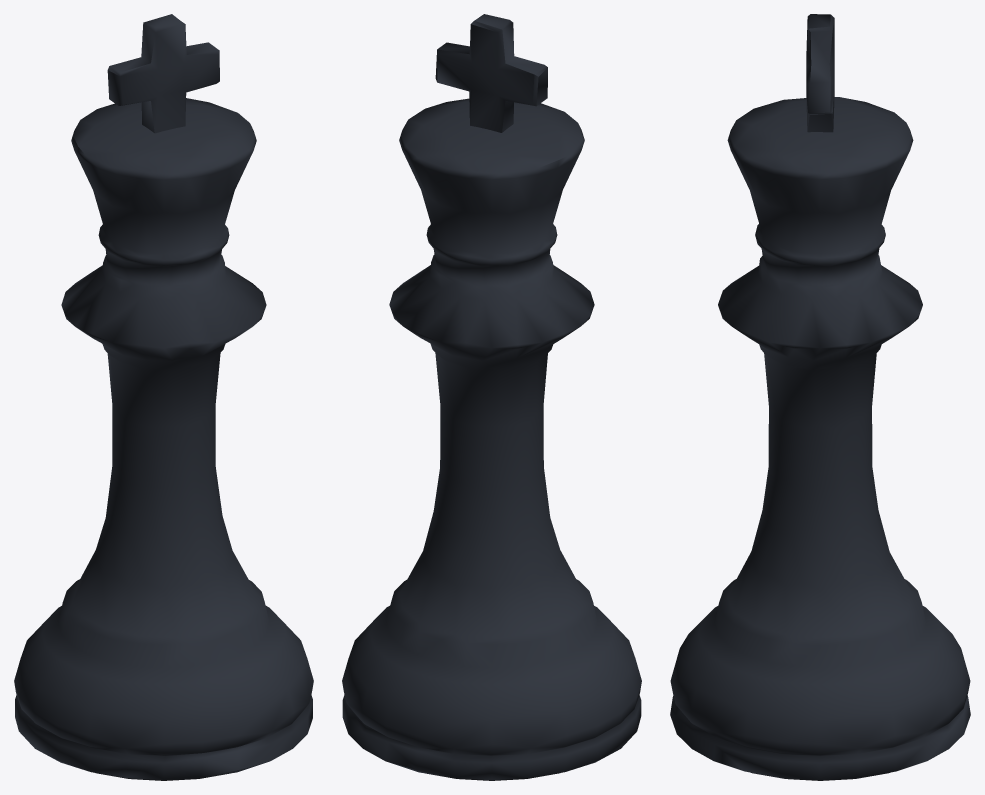
Rendered from xadrez_rei_preto_pacote.glb.
3 renders of one model, left to right at view 1: azimuth 30°, elevation 25°; view 2: azimuth 150°, elevation 25°; view 3: azimuth 270°, elevation 25°, orthographic.
Parts seen in each view (by area): view 1: xadrez_rei_preto_pacote; view 2: xadrez_rei_preto_pacote; view 3: xadrez_rei_preto_pacote.
Boxes of the visible parts, left/top/right/bottom form: xadrez_rei_preto_pacote: left=14, top=14, right=313, bottom=780; xadrez_rei_preto_pacote: left=342, top=14, right=641, bottom=780; xadrez_rei_preto_pacote: left=670, top=14, right=970, bottom=780.
Size of the model in its own units: 0.04 by 0.1036 by 0.0401.
Materials: 1 (1 with a texture image).
